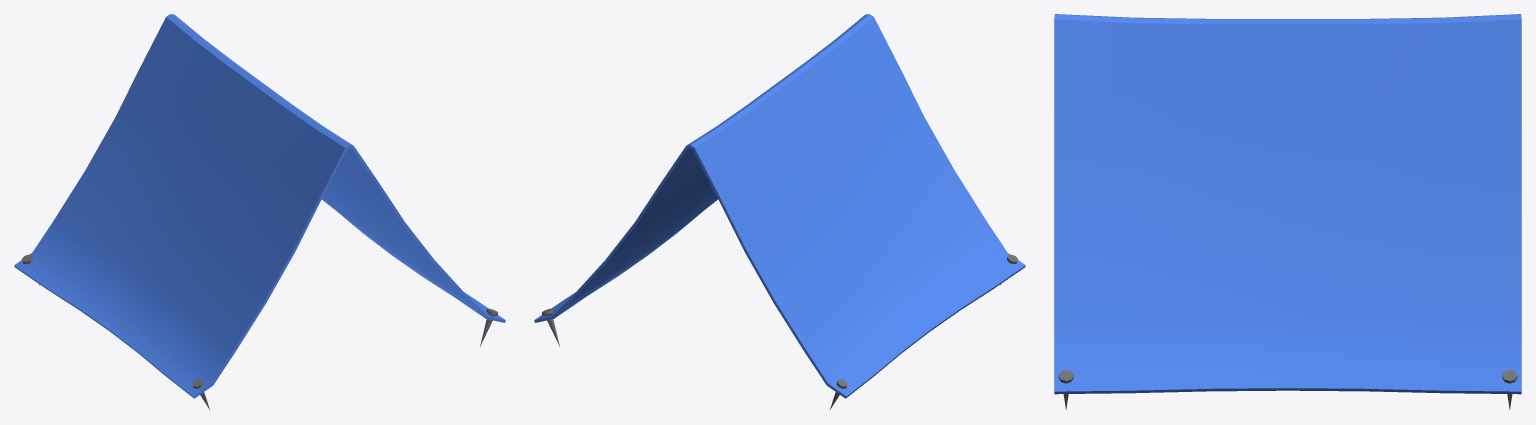
File: Tent_Roof_A1_01.fbx
3 renders of one model, left to right at view 1: azimuth 30°, elevation 25°; view 2: azimuth 150°, elevation 25°; view 3: azimuth 270°, elevation 25°, orthographic. The views are drawn at different scales.
Parts seen in each view (by area): view 1: Tent_Roof_A1_01_LOD0; view 2: Tent_Roof_A1_01_LOD0; view 3: Tent_Roof_A1_01_LOD0.
Boxes of the visible parts, left/top/right/bottom form: Tent_Roof_A1_01_LOD0: left=14, top=14, right=505, bottom=410; Tent_Roof_A1_01_LOD0: left=534, top=14, right=1025, bottom=410; Tent_Roof_A1_01_LOD0: left=1054, top=14, right=1521, bottom=410.
Size of what is drawn, in the model's own units: 3.09 by 2.25 by 3.07.
